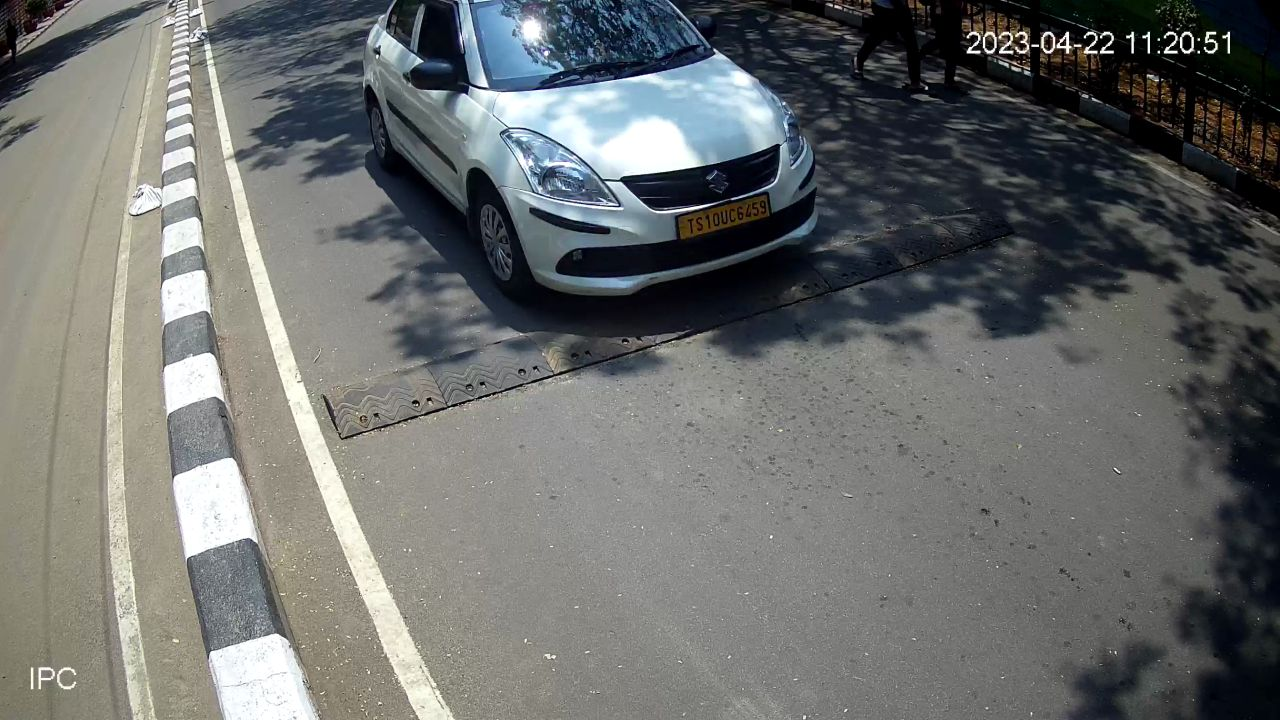license_plate: (672, 187, 778, 241)
